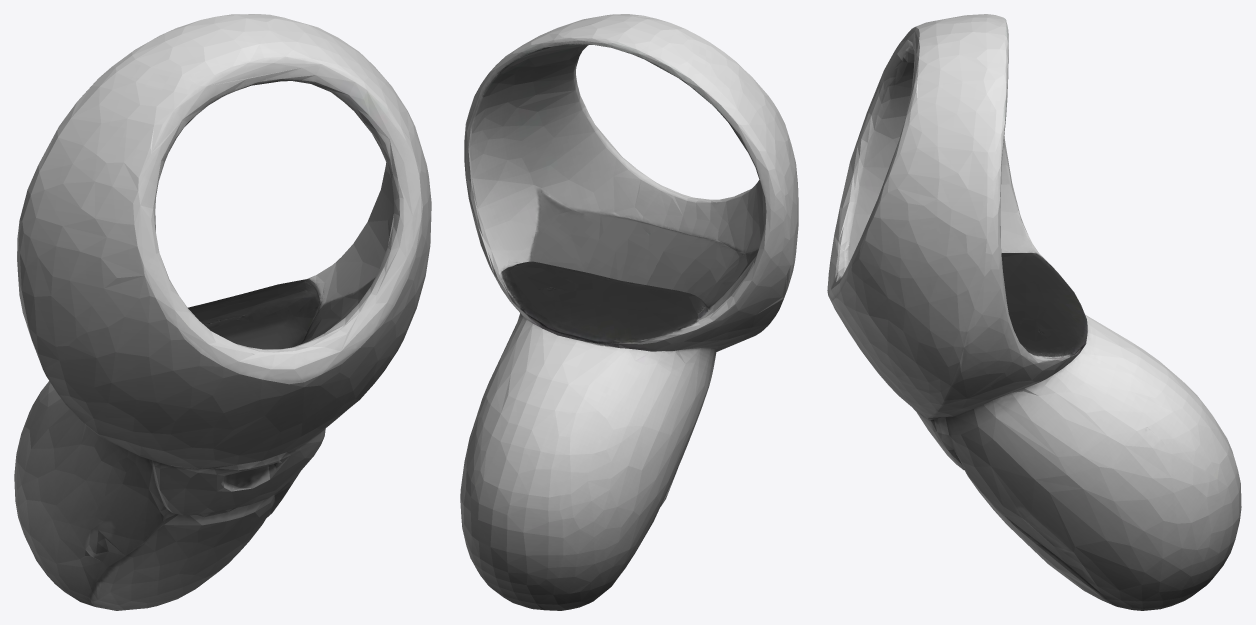
The picture shows the model from 3 angles, left to right: view 1: azimuth 30°, elevation 25°; view 2: azimuth 150°, elevation 25°; view 3: azimuth 270°, elevation 25°; orthographic projection. The views are drawn at different scales.
Visible parts, largest first — view 1: geometry_0; view 2: geometry_0; view 3: geometry_0.
Boxes of the visible parts, <box> form: geometry_0: <box>14,14,431,610</box>; geometry_0: <box>460,14,798,610</box>; geometry_0: <box>827,14,1241,610</box>.
Bounding box in the file's own units: 0.6469 × 0.997 × 0.662.
Materials: 1 (1 with a texture image).
